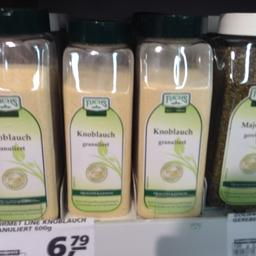spices: (134, 12, 212, 218), (60, 10, 132, 217), (0, 4, 58, 220), (207, 12, 255, 206)
